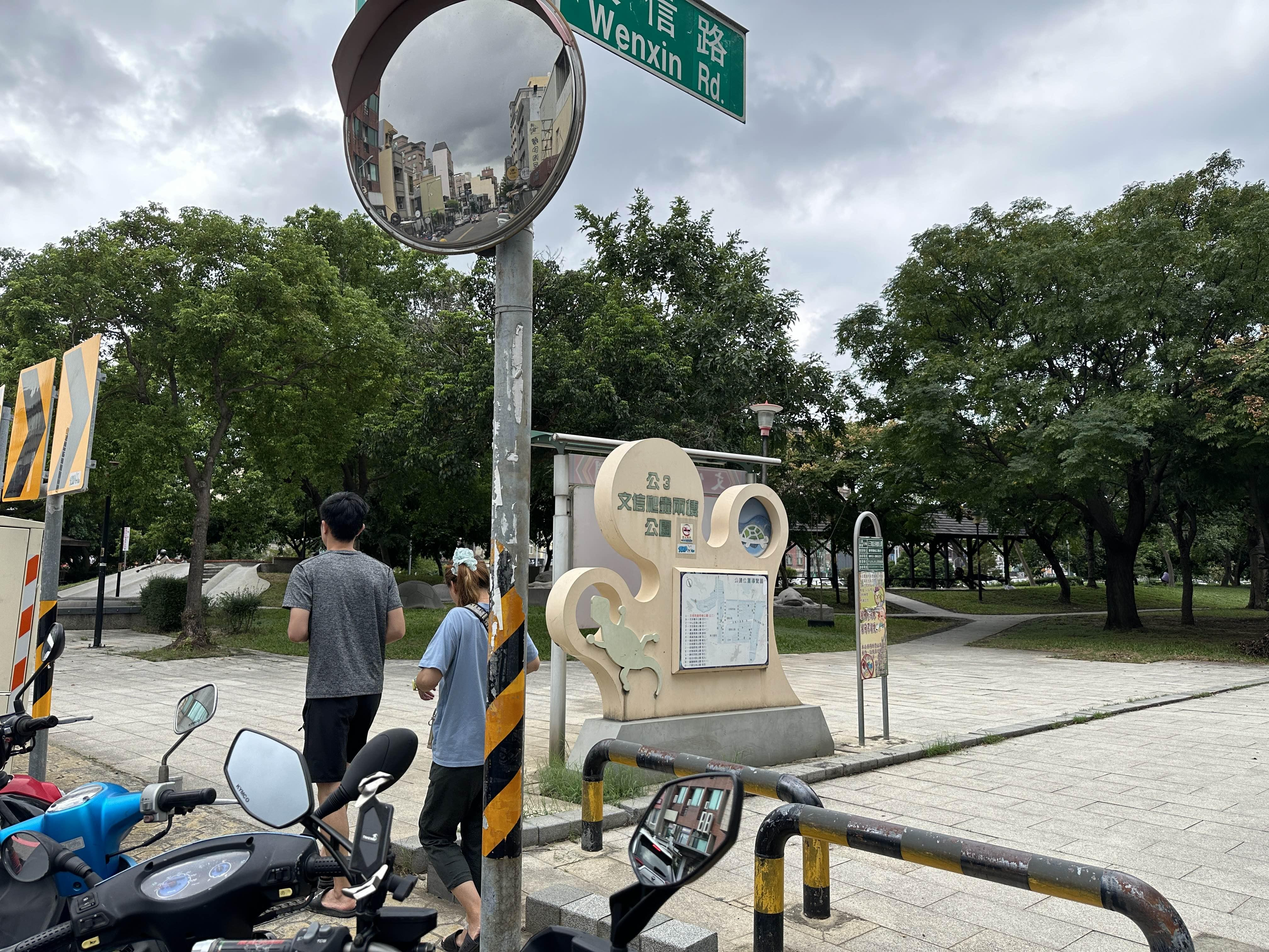NoHelmet: (319, 493, 367, 548), (447, 548, 489, 599)
NoVest: (305, 557, 389, 695), (443, 604, 489, 774)
